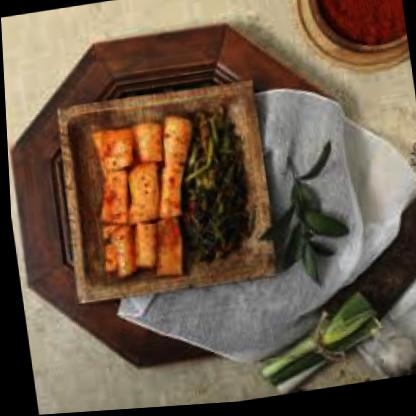chonggak Kimchi: (83, 104, 258, 286)
